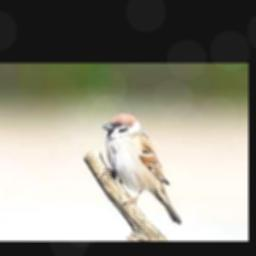Sparrow: (102, 112, 181, 223)
